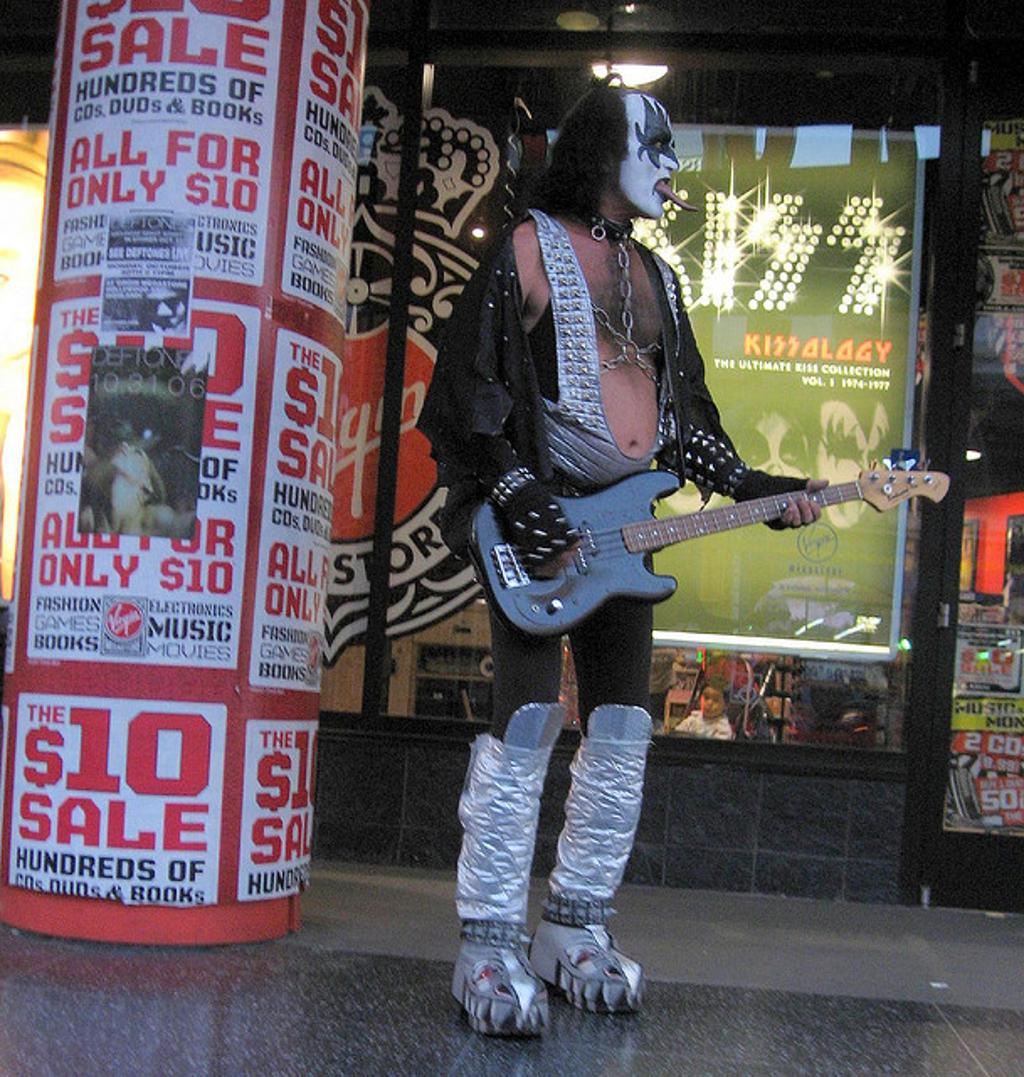face: (616, 93, 696, 228)
